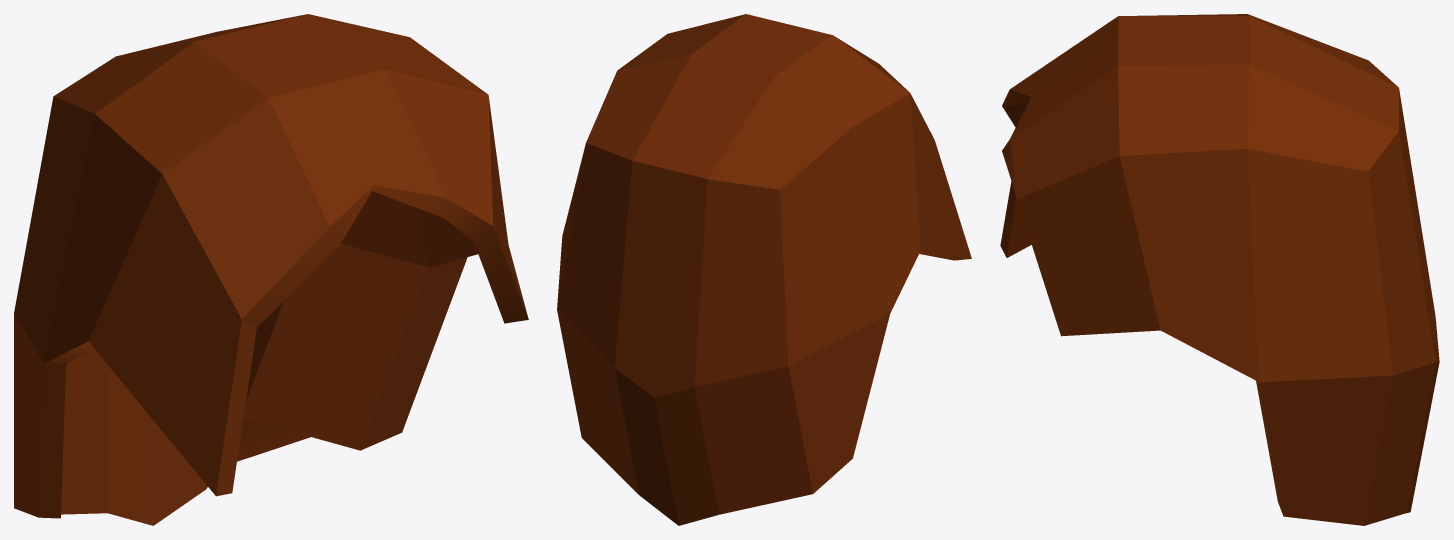
File: Hairstyle_nerd_1.FBX
3 views of the same model, side by side, from view 1: azimuth 30°, elevation 25°; view 2: azimuth 150°, elevation 25°; view 3: azimuth 270°, elevation 25° (orthographic). The views are drawn at different scales.
Parts seen in each view (by area): view 1: Hairstyle_nerd_1; view 2: Hairstyle_nerd_1; view 3: Hairstyle_nerd_1.
Boxes of the visible parts, x1,y1,x2,y2 form: Hairstyle_nerd_1: [14, 14, 528, 525]; Hairstyle_nerd_1: [557, 14, 971, 525]; Hairstyle_nerd_1: [1000, 14, 1439, 525].
Size of the model in its own units: 7.05 by 7.06 by 8.59.
